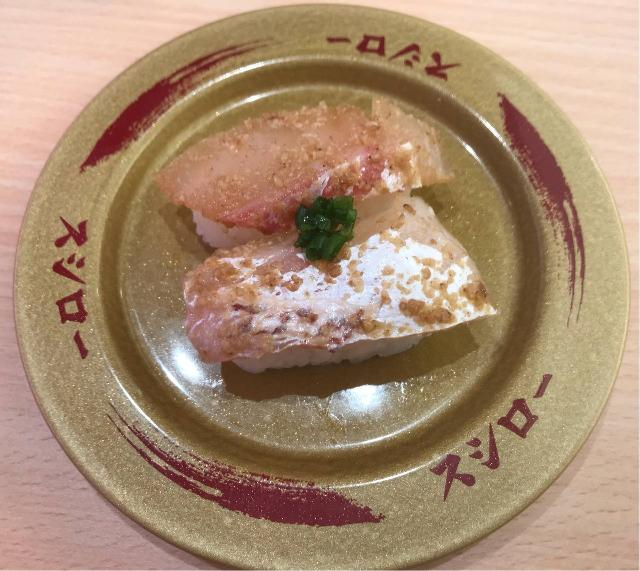jangold: (21, 47, 628, 540)
